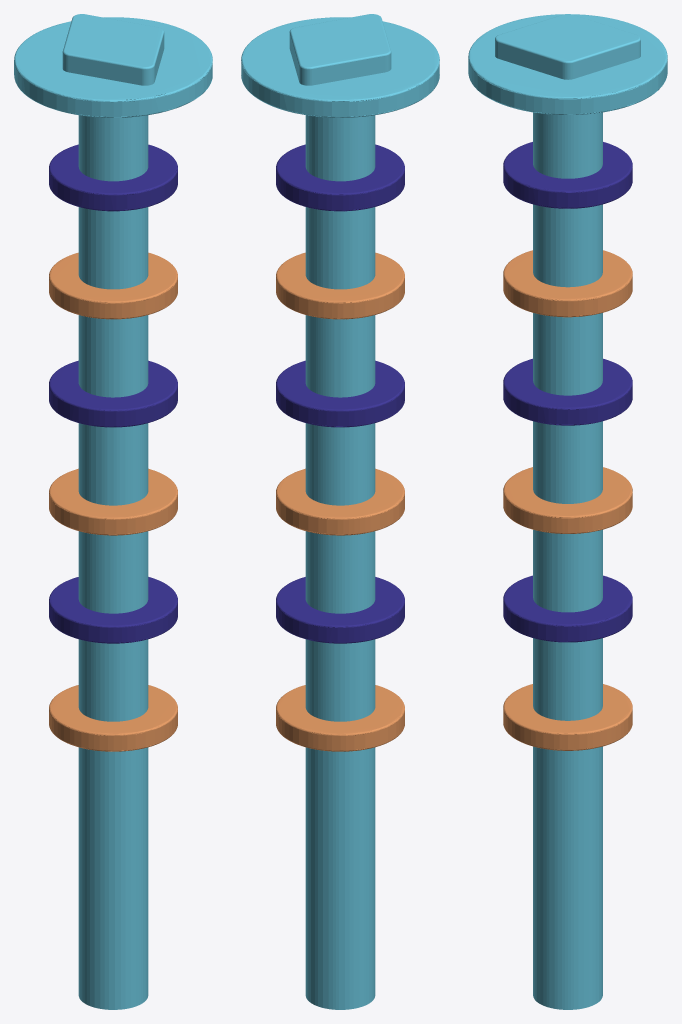
Rendered from RodDiamond.fbx.
The picture shows the model from 3 angles, left to right: view 1: azimuth 30°, elevation 25°; view 2: azimuth 150°, elevation 25°; view 3: azimuth 270°, elevation 25°; orthographic projection.
Visible parts, largest first — view 1: Rod Diamond; view 2: Rod Diamond; view 3: Rod Diamond.
Boxes of the visible parts, x1,y1,x2,y2 form: Rod Diamond: (14,14,212,1009); Rod Diamond: (241,14,439,1009); Rod Diamond: (468,14,667,1009).
Bounding box in the file's own units: 20 × 106 × 20.
